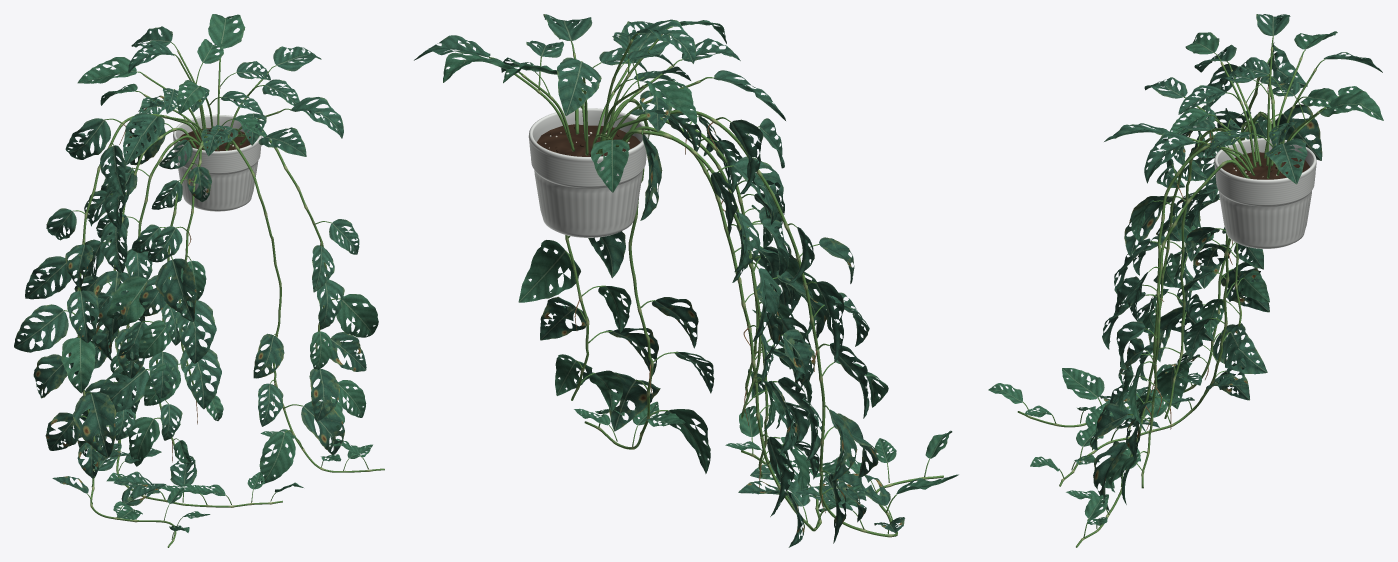
Rendered from monstera_light-BCNdJGqI.glb.
3 views of the same model, side by side, from view 1: azimuth 30°, elevation 25°; view 2: azimuth 150°, elevation 25°; view 3: azimuth 270°, elevation 25° (orthographic). The views are drawn at different scales.
Visible parts, largest first — view 1: pot, leaf_hang_060, leaf_hang_057, leaf_hang_102, leaf_hang_085, leaf_hang_087, leaf_hang_058, leaf_hang_074, leaf_hang_055, leaf_hang_046, leaf_up_002, leaf_hang_107 (+63 smaller); view 2: pot, stems_arm_floor_2, leaf_hang_074, stems_arm_floor_0, leaf_up_004, soil, stems_arm_floor_1, leaf_up_020, leaf_hang_045, leaf_hang_076, leaf_hang_046, stems_arm_free_5 (+33 smaller); view 3: pot, stems_arm_free_3, stems_arm_floor_0, stems_arm_floor_1, leaf_hang_030, stems_arm_floor_6, stems_arm_floor_2, leaf_hang_090, leaf_up_014, leaf_hang_102, leaf_up_008, leaf_up_010 (+26 smaller).
Boxes of the visible parts, left/top/right/bottom form: pot: left=173, top=114, right=262, bottom=211; leaf_hang_060: left=72, top=392, right=116, bottom=457; leaf_hang_057: left=14, top=304, right=68, bottom=352; leaf_hang_102: left=155, top=258, right=196, bottom=321; leaf_hang_085: left=175, top=300, right=216, bottom=363; leaf_hang_087: left=180, top=346, right=221, bottom=409; leaf_hang_058: left=61, top=338, right=95, bottom=393; leaf_hang_074: left=336, top=294, right=378, bottom=337; leaf_hang_055: left=25, top=256, right=72, bottom=299; leaf_hang_046: left=259, top=431, right=295, bottom=483; leaf_up_002: left=123, top=113, right=164, bottom=165; leaf_hang_107: left=99, top=363, right=150, bottom=412; pot: left=528, top=108, right=648, bottom=237; stems_arm_floor_2: left=599, top=110, right=943, bottom=537; leaf_hang_074: left=518, top=240, right=580, bottom=302; stems_arm_floor_0: left=615, top=126, right=824, bottom=531; leaf_up_004: left=557, top=57, right=601, bottom=115; soil: left=537, top=124, right=640, bottom=156; stems_arm_floor_1: left=584, top=98, right=677, bottom=449; leaf_up_020: left=590, top=139, right=629, bottom=192; leaf_hang_045: left=609, top=372, right=660, bottom=431; leaf_hang_076: left=540, top=296, right=588, bottom=340; leaf_hang_046: left=664, top=409, right=710, bottom=473; stems_arm_free_5: left=622, top=129, right=782, bottom=418; pot: left=1214, top=138, right=1316, bottom=248; stems_arm_free_3: left=1127, top=159, right=1249, bottom=488; stems_arm_floor_0: left=1059, top=120, right=1258, bottom=486; stems_arm_floor_1: left=1076, top=145, right=1245, bottom=547; leaf_hang_030: left=1221, top=323, right=1267, bottom=374; stems_arm_floor_6: left=1151, top=127, right=1240, bottom=429; stems_arm_floor_2: left=1017, top=54, right=1275, bottom=427; leaf_hang_090: left=1271, top=104, right=1322, bottom=160; leaf_up_014: left=1265, top=138, right=1307, bottom=184; leaf_hang_102: left=1124, top=196, right=1172, bottom=256; leaf_up_008: left=1320, top=91, right=1383, bottom=120; leaf_up_010: left=1144, top=132, right=1199, bottom=183.
Size of the model in its own units: 1.03 by 1.22 by 0.9576.
12 materials, 8 textured.
